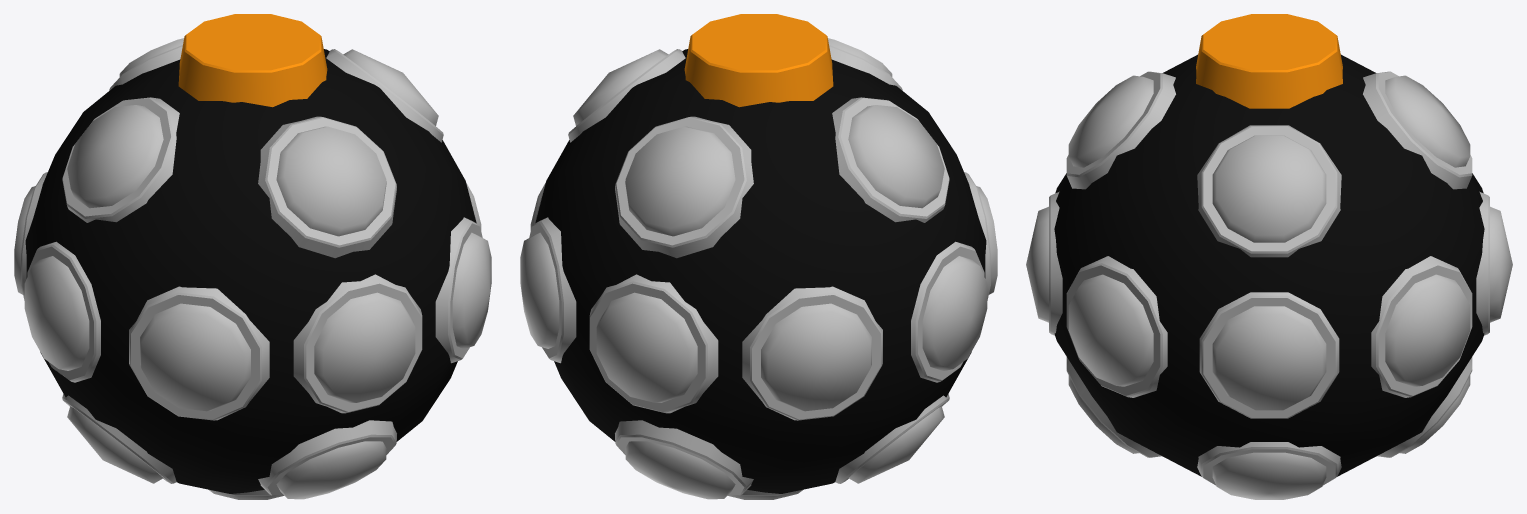
The model's file is Hammer_Ball02_.fbx.
3 views of the same model, side by side, from view 1: azimuth 30°, elevation 25°; view 2: azimuth 150°, elevation 25°; view 3: azimuth 270°, elevation 25° (orthographic).
Visible parts, largest first — view 1: Hammer_Ball02_Pik_, Hammer_Ball02_, Hammer_Ball02_fix_; view 2: Hammer_Ball02_Pik_, Hammer_Ball02_, Hammer_Ball02_fix_; view 3: Hammer_Ball02_Pik_, Hammer_Ball02_, Hammer_Ball02_fix_.
Boxes of the visible parts, x1,y1,x2,y2 form: Hammer_Ball02_Pik_: [14, 38, 491, 499]; Hammer_Ball02_: [25, 49, 476, 493]; Hammer_Ball02_fix_: [178, 14, 327, 107]; Hammer_Ball02_Pik_: [520, 38, 997, 499]; Hammer_Ball02_: [535, 49, 986, 493]; Hammer_Ball02_fix_: [684, 14, 833, 107]; Hammer_Ball02_Pik_: [1026, 71, 1512, 499]; Hammer_Ball02_: [1054, 54, 1484, 476]; Hammer_Ball02_fix_: [1196, 14, 1342, 108].
Bounding box in the file's own units: 2.14 × 2.14 × 2.15.
